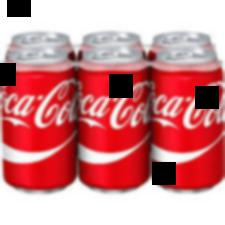cocacola: (0, 49, 76, 195), (77, 49, 150, 196), (151, 50, 224, 195)
